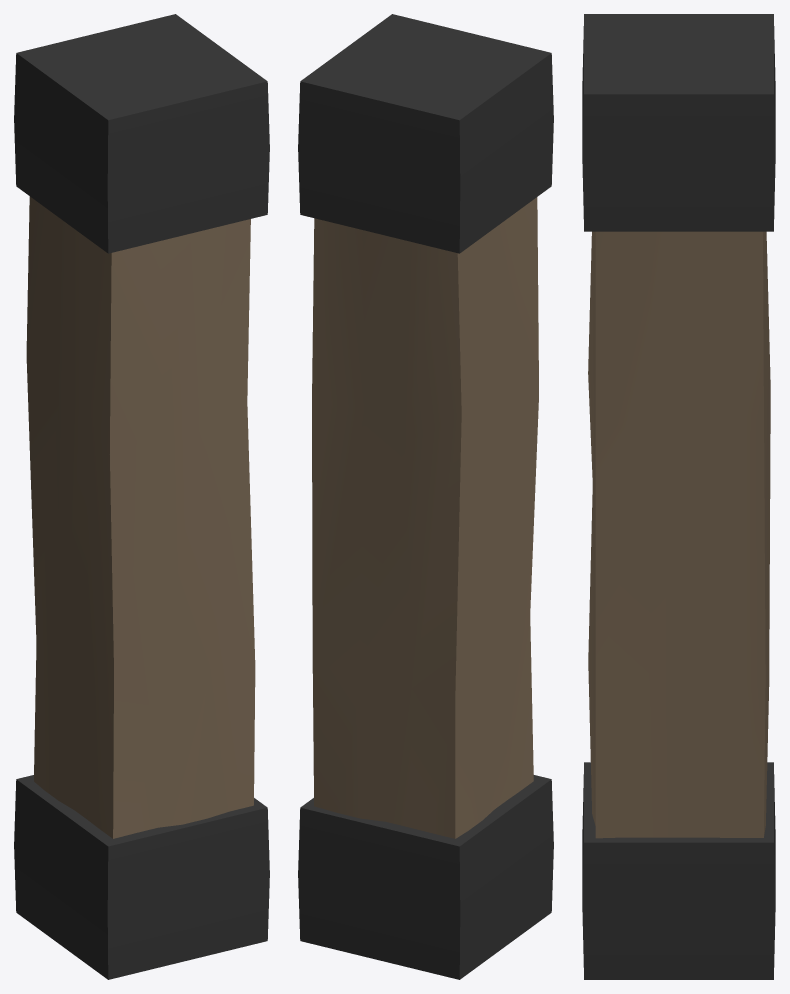
Rendered from Pillar.fbx.
3 renders of one model, left to right at view 1: azimuth 30°, elevation 25°; view 2: azimuth 150°, elevation 25°; view 3: azimuth 270°, elevation 25°, orthographic. The views are drawn at different scales.
Visible parts, largest first — view 1: Beam, SupportTop, SupportBottom; view 2: Beam, SupportTop, SupportBottom; view 3: Beam, SupportTop, SupportBottom.
Boxes of the visible parts, <box> form: Beam: <box>26,196,255,838</box>; SupportTop: <box>14,14,269,253</box>; SupportBottom: <box>14,775,269,979</box>; Beam: <box>312,197,538,838</box>; SupportTop: <box>298,14,553,253</box>; SupportBottom: <box>298,775,553,979</box>; Beam: <box>588,231,770,838</box>; SupportTop: <box>582,14,775,231</box>; SupportBottom: <box>582,762,775,979</box>.
Size of the model in its own units: 1.16 by 5.86 by 1.16.
